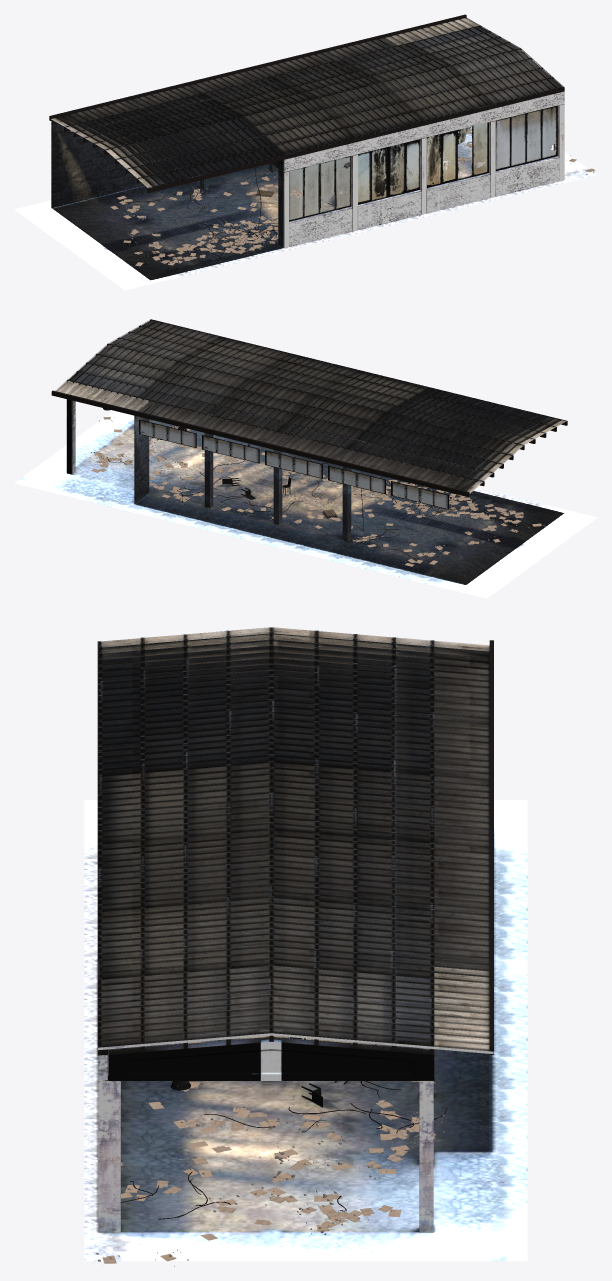
File: warehouse.glb
3 renders of one model, top to bottom at view 1: azimuth 30°, elevation 25°; view 2: azimuth 150°, elevation 25°; view 3: azimuth 270°, elevation 25°, orthographic. The views are drawn at different scales.
Parts seen in each view (by area): view 1: TexturesCom_WindowsBacklit0019_13_M_0; view 2: TexturesCom_WindowsBacklit0019_13_M_0; view 3: TexturesCom_WindowsBacklit0019_13_M_0.
Boxes of the visible parts, x1,y1,x2,y2 form: TexturesCom_WindowsBacklit0019_13_M_0: (14,14,596,290); TexturesCom_WindowsBacklit0019_13_M_0: (14,319,597,598); TexturesCom_WindowsBacklit0019_13_M_0: (84,627,527,1266).
Bounding box in the file's own units: 33.59 × 6.73 × 13.48.
Materials: 28 (19 with a texture image).
